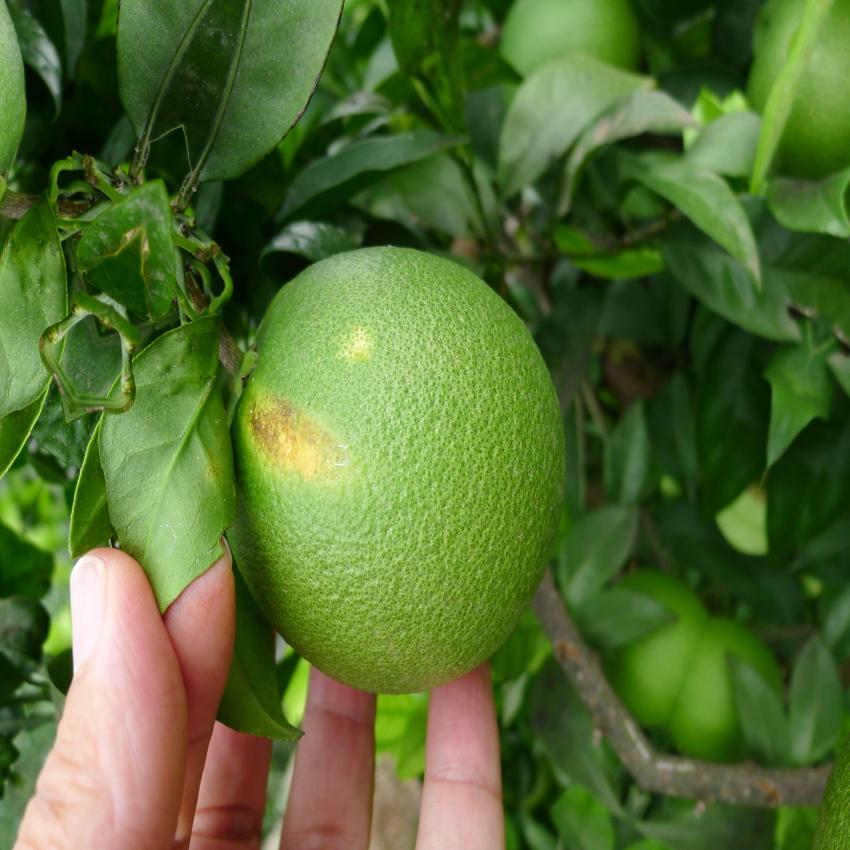Mal estado: (199, 227, 581, 698)
